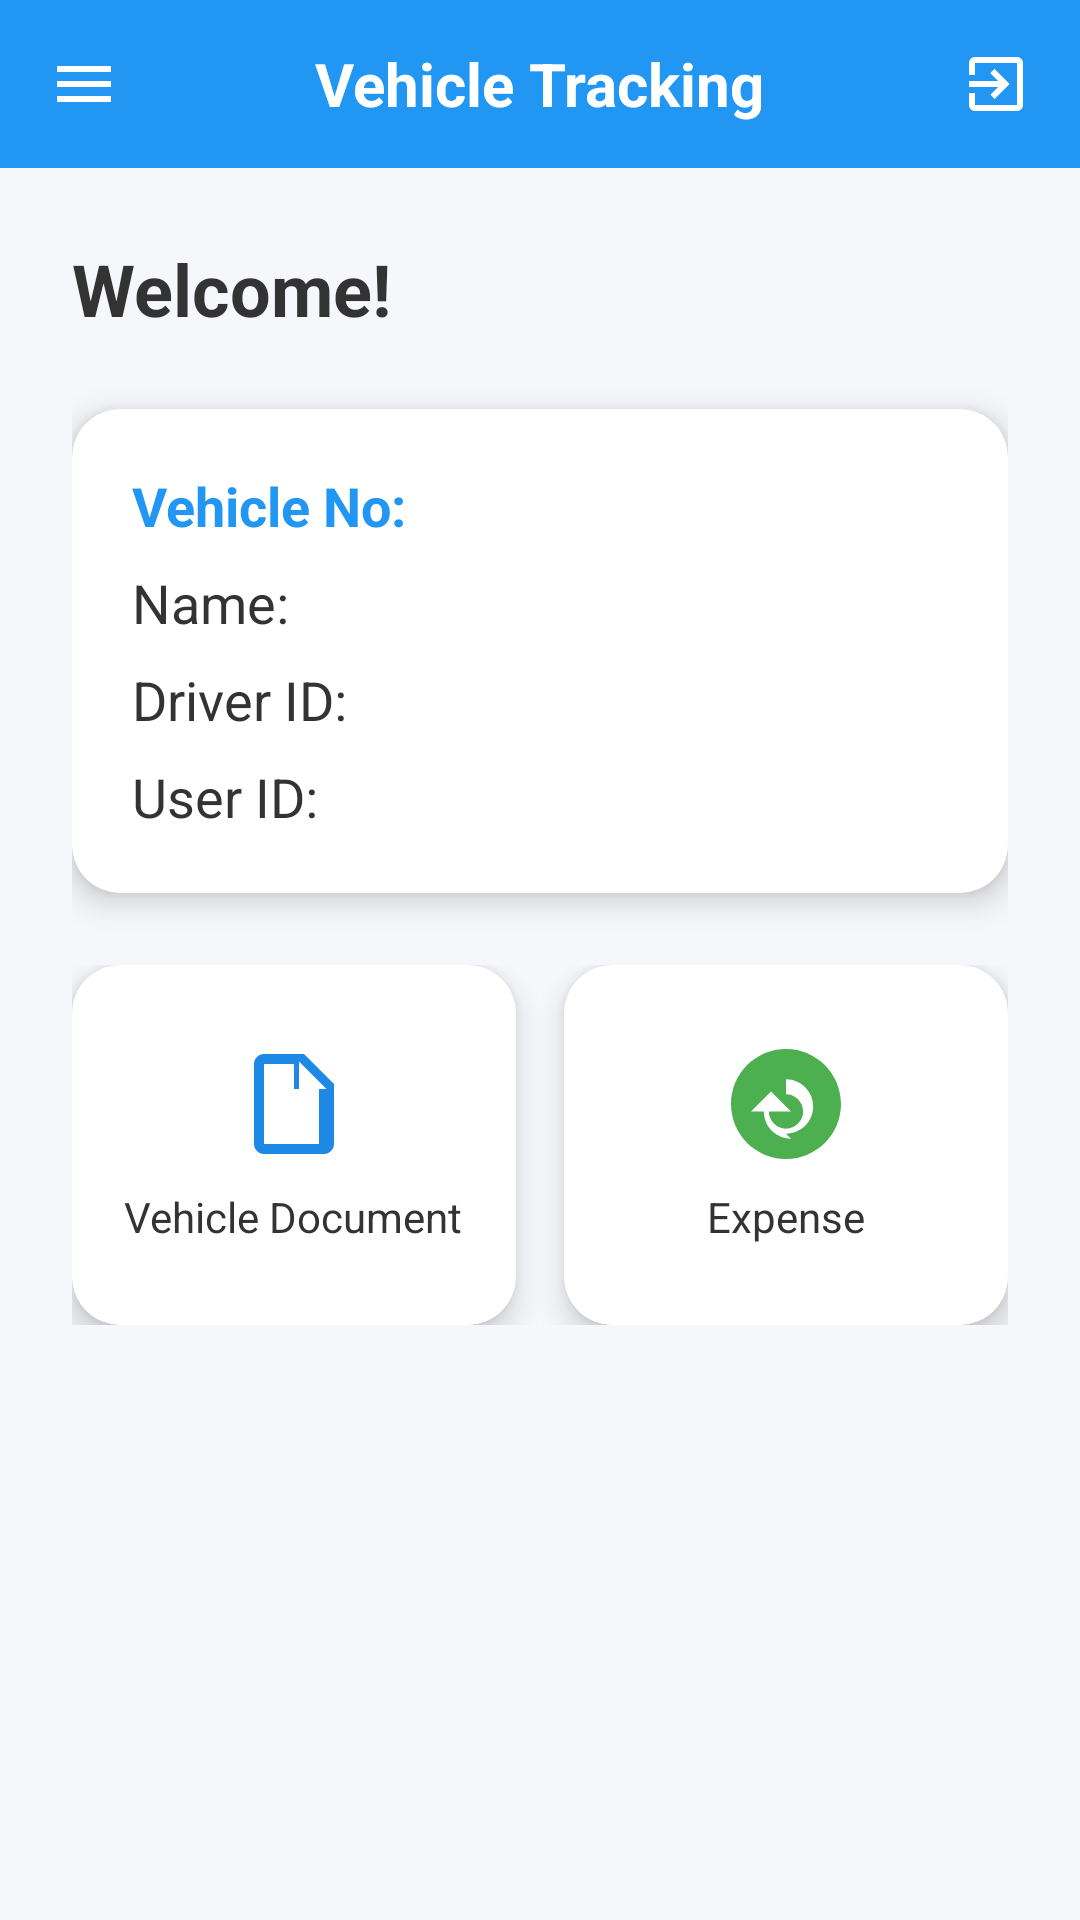

Icons on this 1080×1920 Android screen, each with its box as (x1, y1, x2, y2):
menu: (57, 66, 111, 102)
